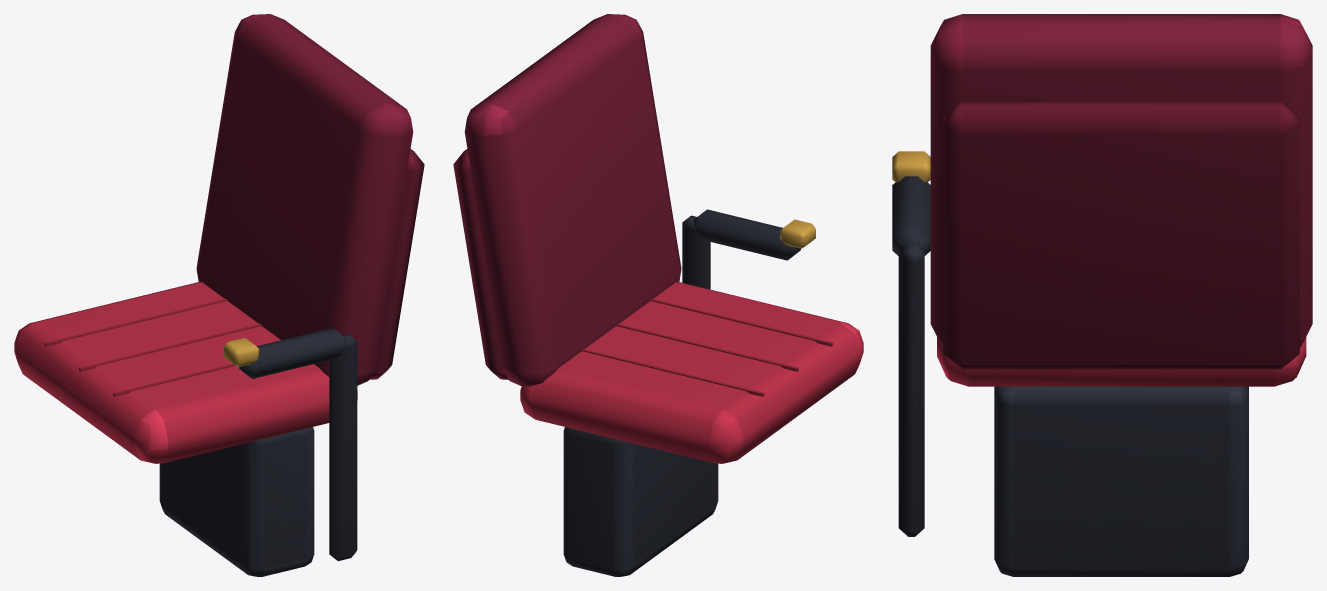
The model's file is SM_Cinema_Seat.fbx.
3 renders of one model, left to right at view 1: azimuth 30°, elevation 25°; view 2: azimuth 150°, elevation 25°; view 3: azimuth 270°, elevation 25°, orthographic. The views are drawn at different scales.
Parts seen in each view (by area): view 1: SM_Cinema_Seat; view 2: SM_Cinema_Seat; view 3: SM_Cinema_Seat.
Boxes of the visible parts, <box> form: SM_Cinema_Seat: <box>14,14,424,576</box>; SM_Cinema_Seat: <box>453,14,863,576</box>; SM_Cinema_Seat: <box>892,14,1312,576</box>.
Size of the model in its own units: 67.8 by 104 by 66.05.
